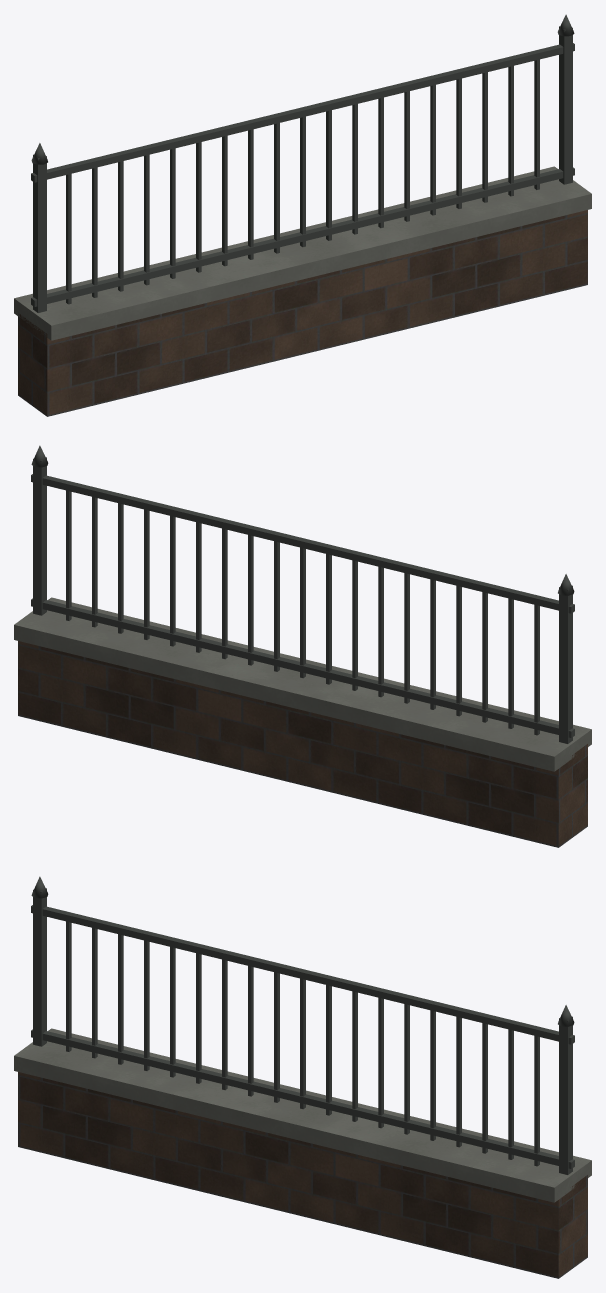
Rendered from estate-railing-3m.glb.
3 renders of one model, top to bottom at view 1: azimuth 30°, elevation 25°; view 2: azimuth 150°, elevation 25°; view 3: azimuth 330°, elevation 25°, orthographic.
Parts seen in each view (by area): view 1: Brick dwarf wall, Coping, Rail.001, Rail, Iron standard, Iron standard.001, Iron upright.002, Iron upright.005, Iron upright.008, Iron upright.010, Iron upright, Iron upright.001 (+13 smaller); view 2: Brick dwarf wall, Coping, Rail.001, Rail, Iron standard, Iron standard.001, Iron upright.002, Iron upright.005, Iron upright.008, Iron upright.010, Iron upright, Iron upright.001 (+13 smaller); view 3: Brick dwarf wall, Coping, Rail.001, Rail, Iron standard.001, Iron standard, Iron upright.008, Iron upright.010, Iron upright.013, Iron upright.016, Iron upright.011, Iron upright.012 (+13 smaller).
Boxes of the visible parts, box(x1,y1,x2,y2) form: Brick dwarf wall: box(18, 210, 587, 416); Coping: box(14, 166, 591, 340); Rail.001: box(31, 43, 574, 182); Rail: box(31, 167, 574, 306); Iron standard: box(33, 154, 46, 312); Iron standard.001: box(559, 26, 572, 184); Iron upright.002: box(118, 161, 123, 291); Iron upright.005: box(196, 142, 201, 272); Iron upright.008: box(274, 123, 279, 253); Iron upright.010: box(326, 110, 331, 240); Iron upright: box(66, 173, 71, 304); Iron upright.001: box(92, 167, 97, 297); Brick dwarf wall: box(18, 641, 587, 847); Coping: box(14, 597, 591, 771); Rail.001: box(31, 474, 574, 613); Rail: box(31, 598, 574, 737); Iron standard: box(559, 585, 572, 743); Iron standard.001: box(33, 457, 46, 615); Iron upright.002: box(482, 592, 487, 722); Iron upright.005: box(404, 573, 409, 703); Iron upright.008: box(326, 554, 331, 684); Iron upright.010: box(274, 541, 279, 671); Iron upright: box(534, 604, 539, 735); Iron upright.001: box(508, 598, 513, 728); Brick dwarf wall: box(18, 1072, 587, 1278); Coping: box(14, 1028, 591, 1202); Rail.001: box(31, 905, 574, 1044); Rail: box(31, 1029, 574, 1168); Iron standard.001: box(559, 1016, 572, 1174); Iron standard: box(33, 888, 46, 1046); Iron upright.008: box(274, 972, 279, 1102); Iron upright.010: box(326, 985, 331, 1115); Iron upright.013: box(404, 1004, 409, 1134); Iron upright.016: box(482, 1023, 487, 1153); Iron upright.011: box(352, 991, 357, 1121); Iron upright.012: box(378, 997, 383, 1128).
Size of the model in its own units: 3 by 1.39 by 0.36.
3 materials, 2 textured.
